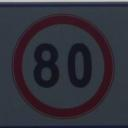speed_limit_80: (14, 15, 113, 118)
